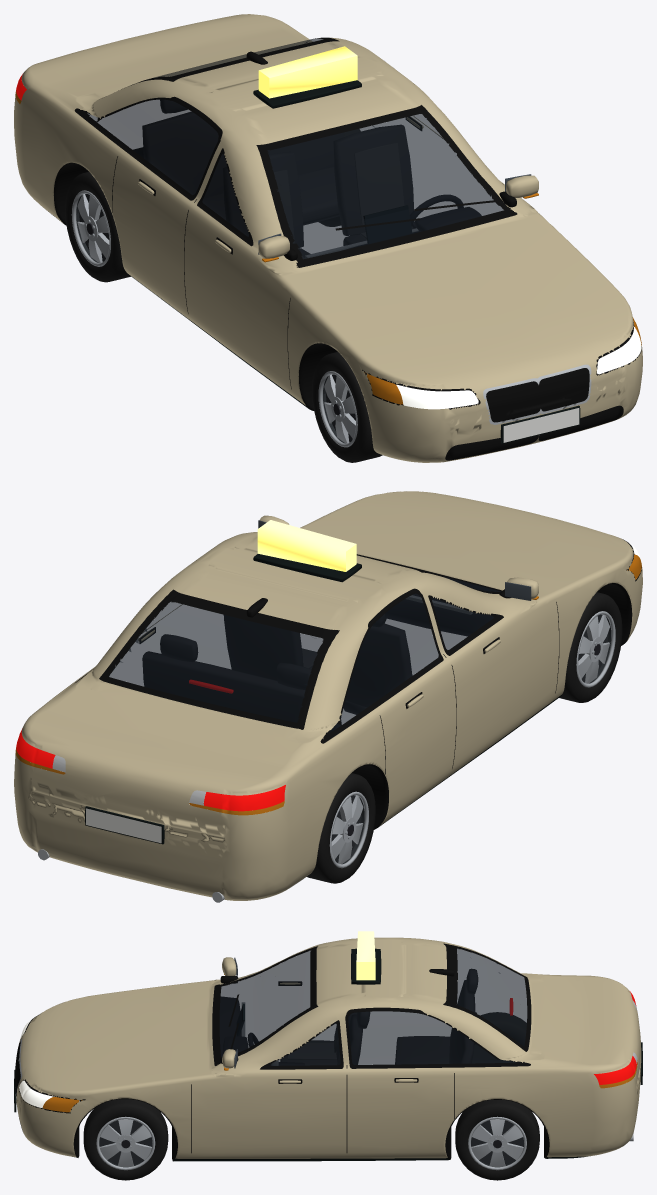
File: car_taxi.glb
The picture shows the model from 3 angles, top to bottom: view 1: azimuth 30°, elevation 25°; view 2: azimuth 150°, elevation 25°; view 3: azimuth 270°, elevation 25°; orthographic projection. The views are drawn at different scales.
Visible parts, largest first — view 1: body, glass, wheel_FR_mesh, wheel_RR_mesh, taxi_sign, headlight, plate, indicator_R; view 2: body, glass, wheel_RR_mesh, wheel_FR_mesh, taxi_sign, taillight, plate, indicator_R; view 3: body, glass, wheel_FL_mesh, wheel_RL_mesh, wheel_RR_mesh, taxi_sign, taillight, indicator_L, headlight.
Boxes of the visible parts, bbox=[...] form: body: bbox=[14, 14, 642, 462]; glass: bbox=[87, 38, 503, 259]; wheel_FR_mesh: bbox=[312, 352, 382, 462]; wheel_RR_mesh: bbox=[65, 172, 130, 282]; taxi_sign: bbox=[258, 46, 357, 98]; headlight: bbox=[396, 327, 641, 409]; plate: bbox=[503, 408, 579, 442]; indicator_R: bbox=[15, 90, 403, 404]; body: bbox=[14, 491, 642, 902]; glass: bbox=[109, 576, 500, 732]; wheel_RR_mesh: bbox=[307, 773, 375, 883]; wheel_FR_mesh: bbox=[559, 592, 622, 702]; taxi_sign: bbox=[257, 520, 356, 571]; taillight: bbox=[16, 680, 285, 811]; plate: bbox=[86, 808, 161, 843]; indicator_R: bbox=[189, 554, 641, 815]; body: bbox=[14, 937, 642, 1161]; glass: bbox=[219, 948, 527, 1065]; wheel_FL_mesh: bbox=[83, 1099, 168, 1180]; wheel_RL_mesh: bbox=[455, 1099, 539, 1180]; wheel_RR_mesh: bbox=[472, 1012, 526, 1063]; taxi_sign: bbox=[356, 931, 375, 980]; taillight: bbox=[510, 991, 636, 1084]; indicator_L: bbox=[42, 1060, 637, 1112]; headlight: bbox=[19, 1017, 52, 1107].
Size of the model in its own units: 1.91 by 1.65 by 4.98.
